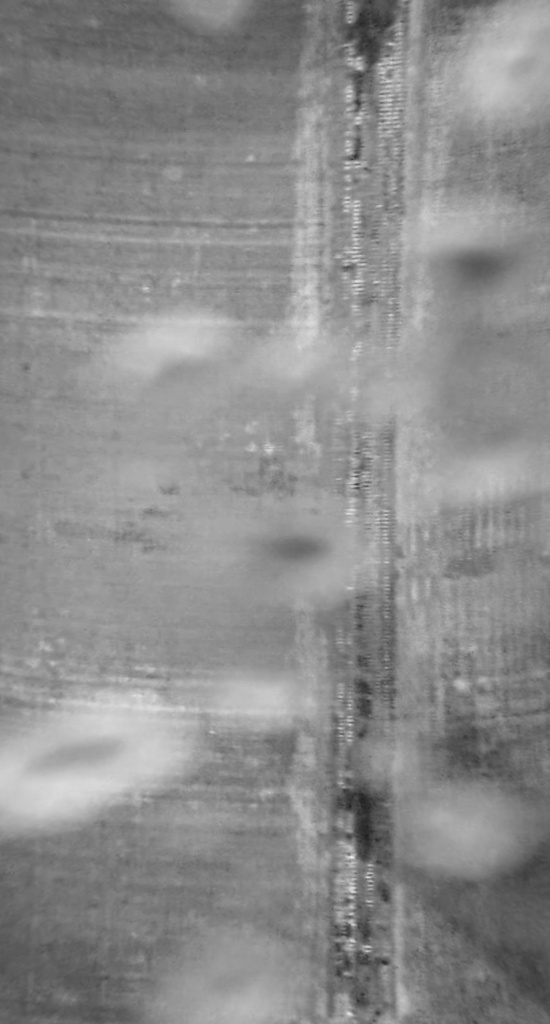splice: (313, 1, 410, 1023)
